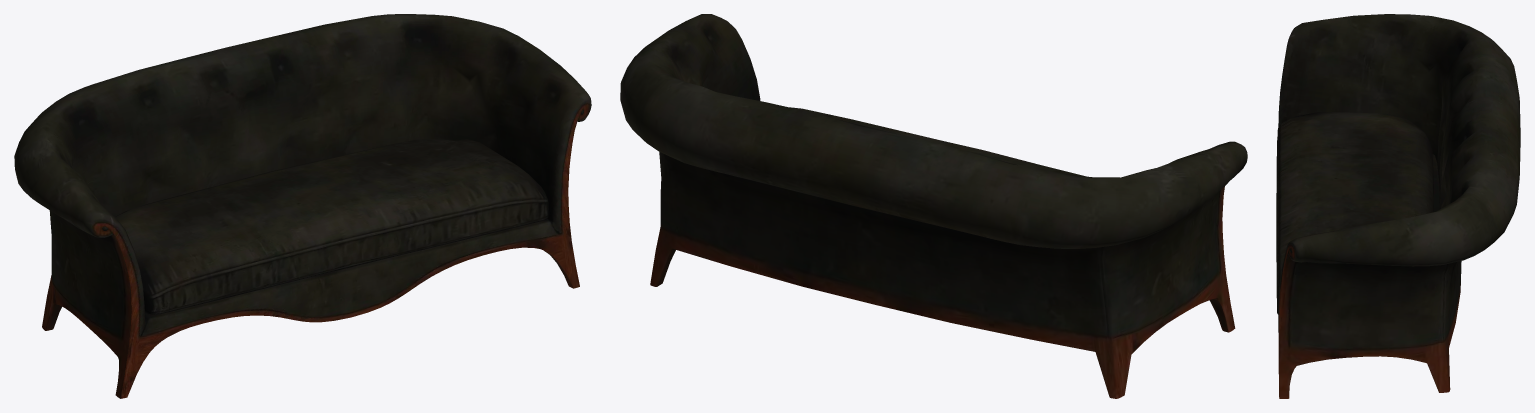
The model's file is sofa_02.glb.
The picture shows the model from 3 angles, left to right: view 1: azimuth 30°, elevation 25°; view 2: azimuth 150°, elevation 25°; view 3: azimuth 270°, elevation 25°; orthographic projection. The views are drawn at different scales.
Parts seen in each view (by area): view 1: sofa_02_Base, sofa_02_Seat; view 2: sofa_02_Base, sofa_02_Seat; view 3: sofa_02_Base, sofa_02_Seat.
Part boxes in pixels (box(x1,y1,x2,y2)): sofa_02_Base: box(14, 14, 591, 398); sofa_02_Seat: box(115, 139, 549, 314); sofa_02_Base: box(620, 14, 1247, 398); sofa_02_Seat: box(789, 107, 1086, 176); sofa_02_Base: box(1278, 14, 1520, 398); sofa_02_Seat: box(1276, 112, 1433, 314).
Bounding box in the file's own units: 1.81 × 0.7095 × 0.8178.
Materials: 1 (1 with a texture image).
